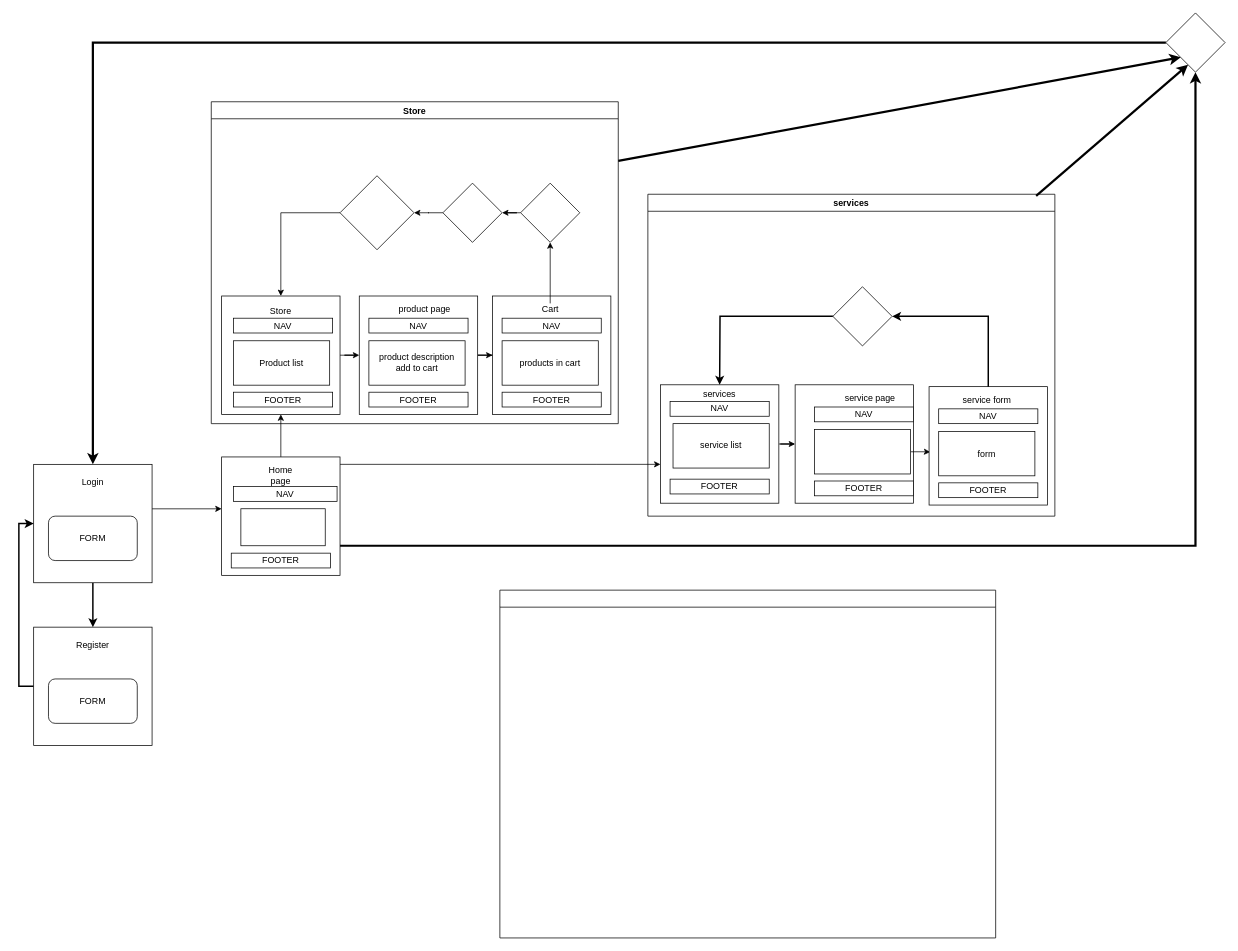
The diagram is 1238 pixels wide and 951 high, and some of its shapes have lost their labels. Here are the shapes that lost their labels. From the top down, the centre of each, then its label:
the point at 1195,42: LOGOUT
the point at 376,212: Payment confirmation
the point at 472,212: Payment
the point at 550,212: Checkout
the point at 862,316: confirmation
the point at 862,451: service description confirm service form
the point at 282,527: news and latest products
the point at 747,763: Vertical Container
